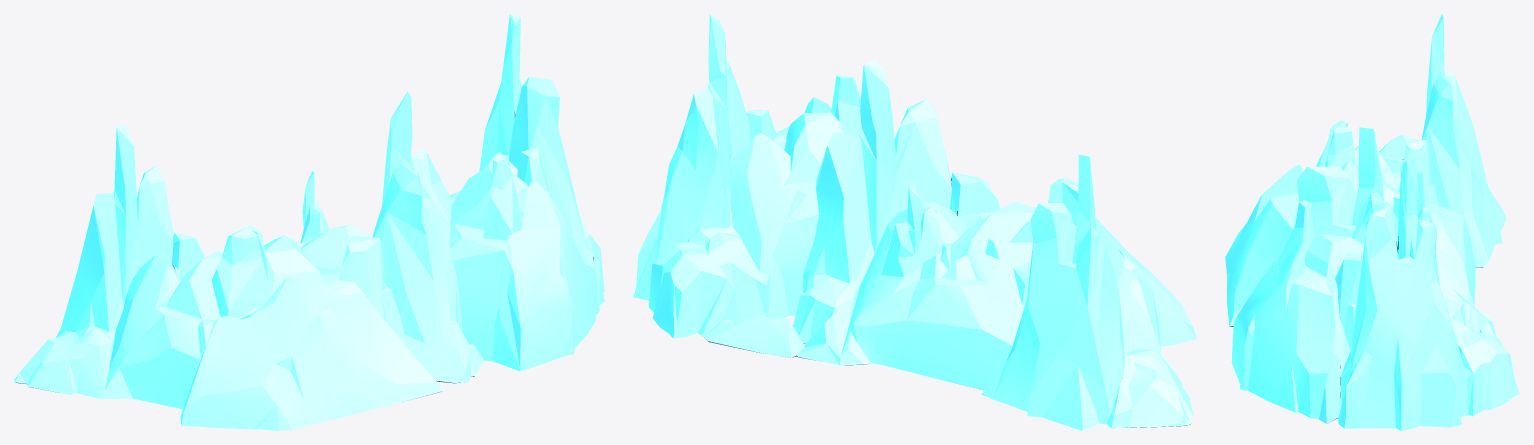
File: back_2_lp.fbx
3 views of the same model, side by side, from view 1: azimuth 30°, elevation 25°; view 2: azimuth 150°, elevation 25°; view 3: azimuth 270°, elevation 25° (orthographic). The views are drawn at different scales.
Parts seen in each view (by area): view 1: back_2_lp; view 2: back_2_lp; view 3: back_2_lp.
Part boxes in pixels (x1,y1,x2,y2): back_2_lp: [14, 14, 604, 430]; back_2_lp: [633, 14, 1196, 430]; back_2_lp: [1225, 14, 1519, 430].
Bounding box in the file's own units: 6764 × 3154 × 3431.
